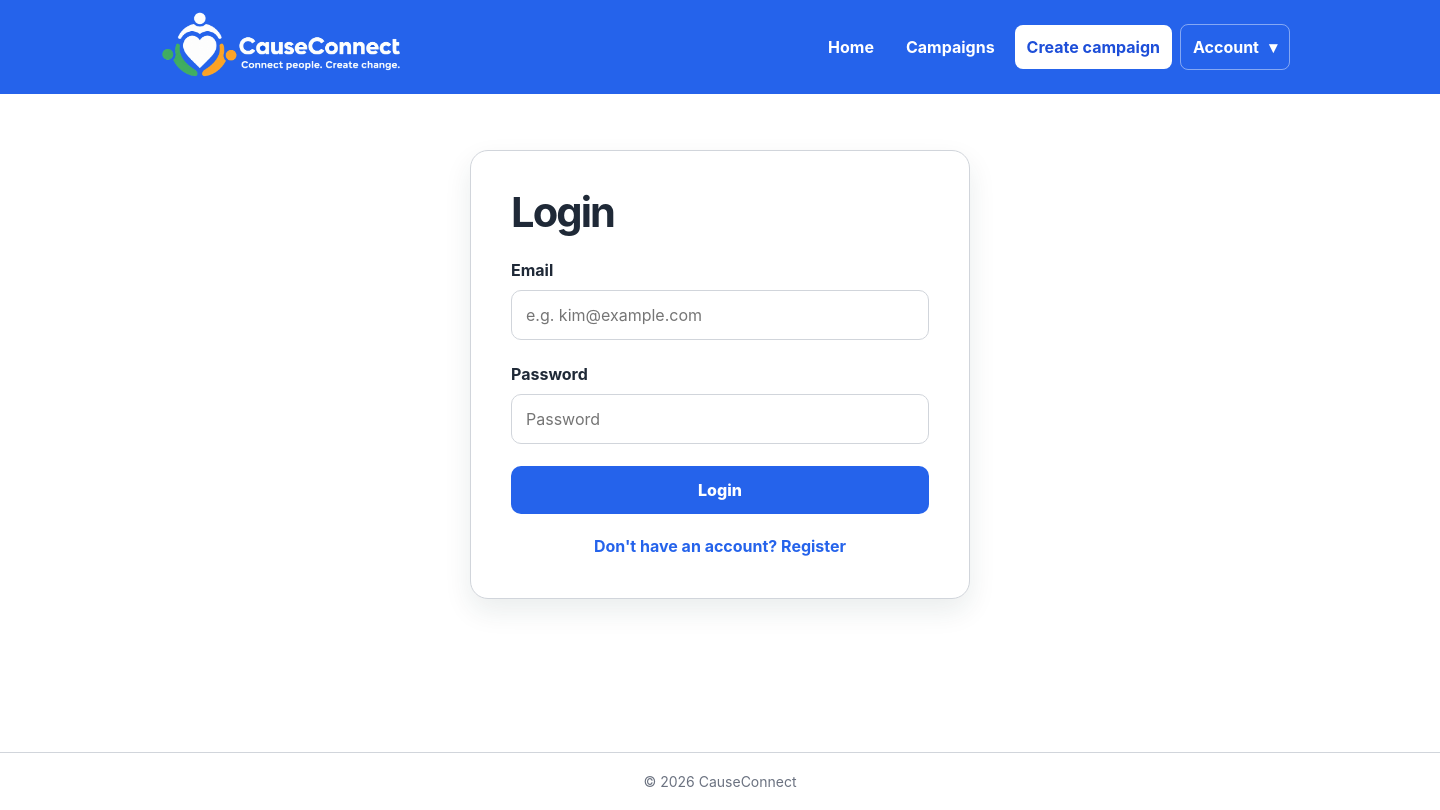
Test: Local campaign frontend draft › keeps the sample out of navigation while linking to real campaign creation
This screenshot has width=1440, height=810.
Click the button "Account ▾" at (1235, 47), box [1180,24,1290,70]
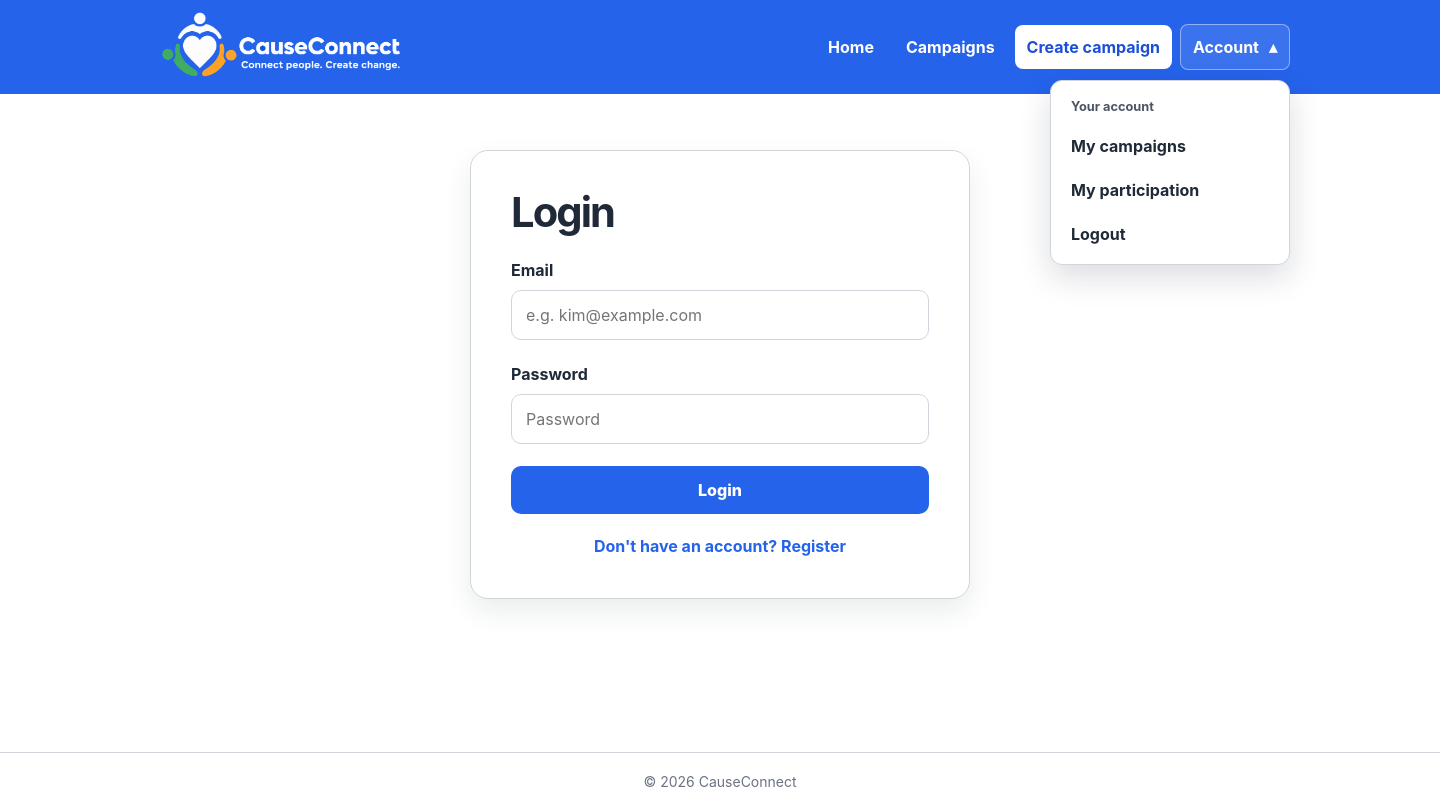
Check: the link "Logout" is shown, box [1071,224,1126,244]
